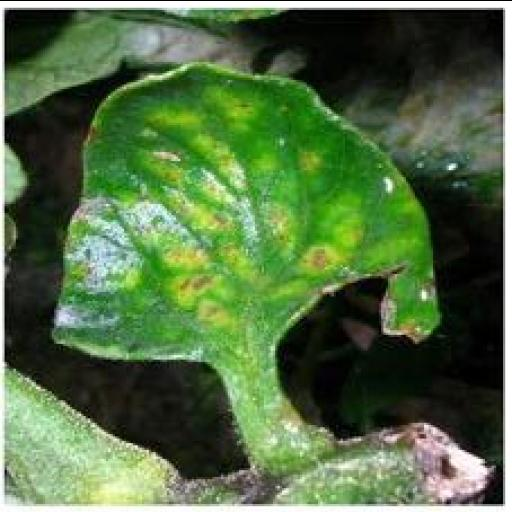Late Blight: (44, 54, 448, 474)
